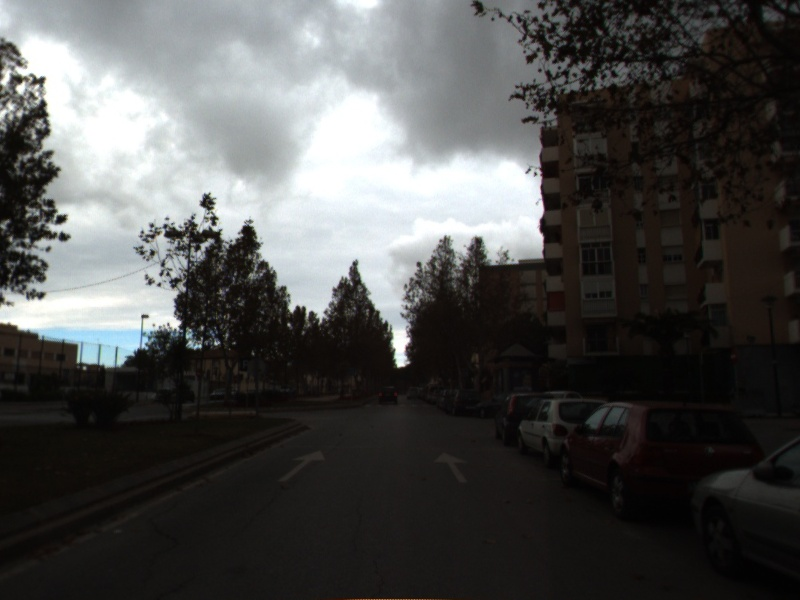STRAIGHT: (275, 448, 328, 484), (431, 450, 471, 485)
